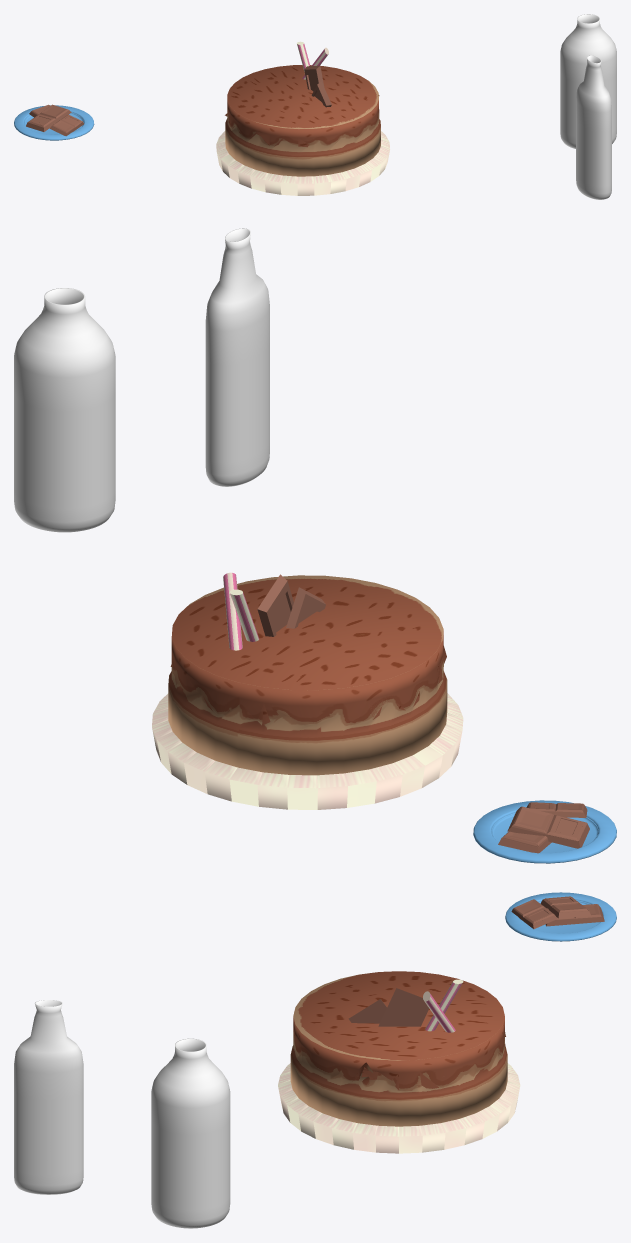
File: pruebaCamara.glb
3 renders of one model, top to bottom at view 1: azimuth 30°, elevation 25°; view 2: azimuth 150°, elevation 25°; view 3: azimuth 270°, elevation 25°, orthographic. The views are drawn at different scales.
Visible parts, largest first — view 1: Cylinder, Botlle.001, Botlle, Circle.002, Plane.003, Plane.004, Plane; view 2: Cylinder, Botlle, Botlle.001, Circle.002, Plane.003, Plane, Circle.001, Plane.001; view 3: Cylinder, Botlle, Botlle.001, Circle.002, Plane, Plane.004, Plane.003, Plane.002, Plane.001, Circle, Circle.001.
Boxes of the visible parts, x1=… form: Cylinder: x1=216, y1=65, x2=389, y2=195; Botlle.001: x1=576, y1=55, x2=611, y2=199; Botlle: x1=560, y1=14, x2=616, y2=148; Circle.002: x1=14, y1=105, x2=94, y2=140; Plane.003: x1=26, y1=104, x2=71, y2=131; Plane.004: x1=49, y1=114, x2=83, y2=136; Plane: x1=304, y1=65, x2=324, y2=91; Cylinder: x1=152, y1=575, x2=463, y2=809; Botlle: x1=14, y1=288, x2=115, y2=532; Botlle.001: x1=205, y1=228, x2=269, y2=486; Circle.002: x1=473, y1=800, x2=616, y2=863; Plane.003: x1=507, y1=806, x2=589, y2=848; Plane: x1=257, y1=574, x2=293, y2=636; Circle.001: x1=223, y1=572, x2=242, y2=650; Plane.001: x1=286, y1=587, x2=325, y2=628; Cylinder: x1=278, y1=971, x2=520, y2=1153; Botlle: x1=151, y1=1038, x2=230, y2=1228; Botlle.001: x1=14, y1=1000, x2=83, y2=1194; Circle.002: x1=505, y1=892, x2=616, y2=941; Plane: x1=378, y1=988, x2=429, y2=1026; Plane.004: x1=511, y1=899, x2=557, y2=929; Plane.003: x1=540, y1=896, x2=591, y2=918; Plane.002: x1=545, y1=904, x2=604, y2=926; Plane.001: x1=348, y1=999, x2=386, y2=1023; Circle: x1=425, y1=979, x2=463, y2=1031; Circle.001: x1=423, y1=991, x2=455, y2=1032.
Size of the model in its own units: 6.81 by 2.16 by 5.55.
Materials: 11 (9 with a texture image).
